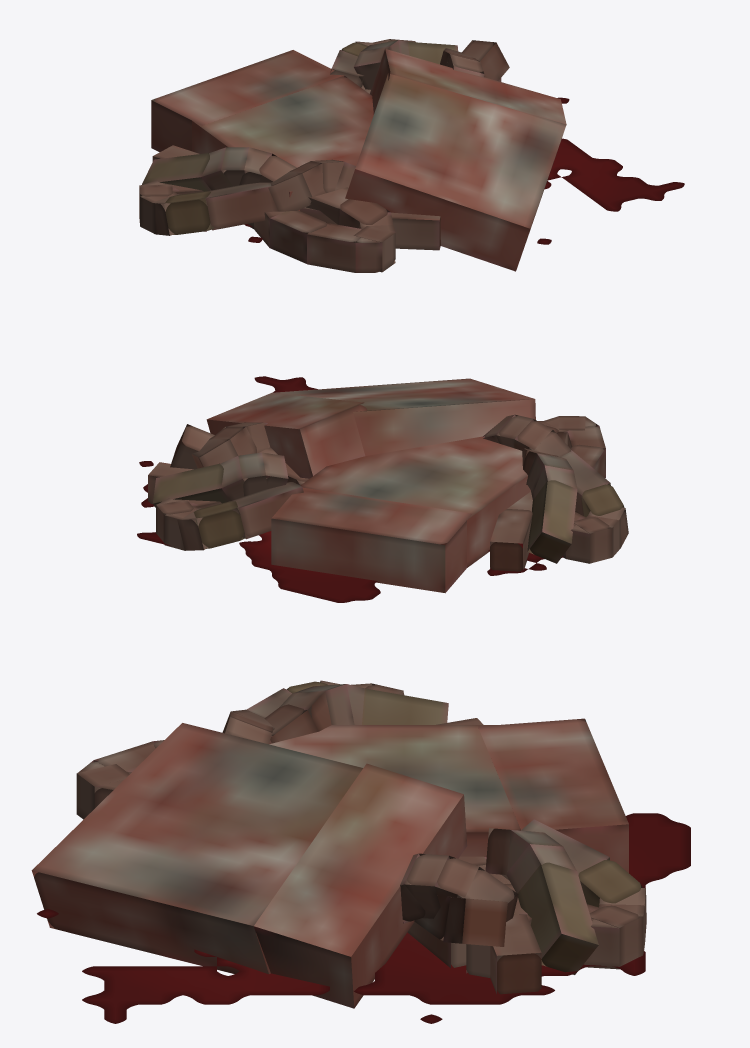
File: pile_rotten_guts_meat.obj
3 renders of one model, top to bottom at view 1: azimuth 30°, elevation 25°; view 2: azimuth 150°, elevation 25°; view 3: azimuth 270°, elevation 25°, orthographic. The views are drawn at different scales.
Parts seen in each view (by area): view 1: pile_rotten_guts_meat; view 2: pile_rotten_guts_meat; view 3: pile_rotten_guts_meat.
Part boxes in pixels (left/top/right/bottom): pile_rotten_guts_meat: left=139, top=39, right=684, bottom=272; pile_rotten_guts_meat: left=137, top=376, right=628, bottom=602; pile_rotten_guts_meat: left=31, top=680, right=690, bottom=1023.
Size of the model in its own units: 1.27 by 0.3003 by 1.24.
